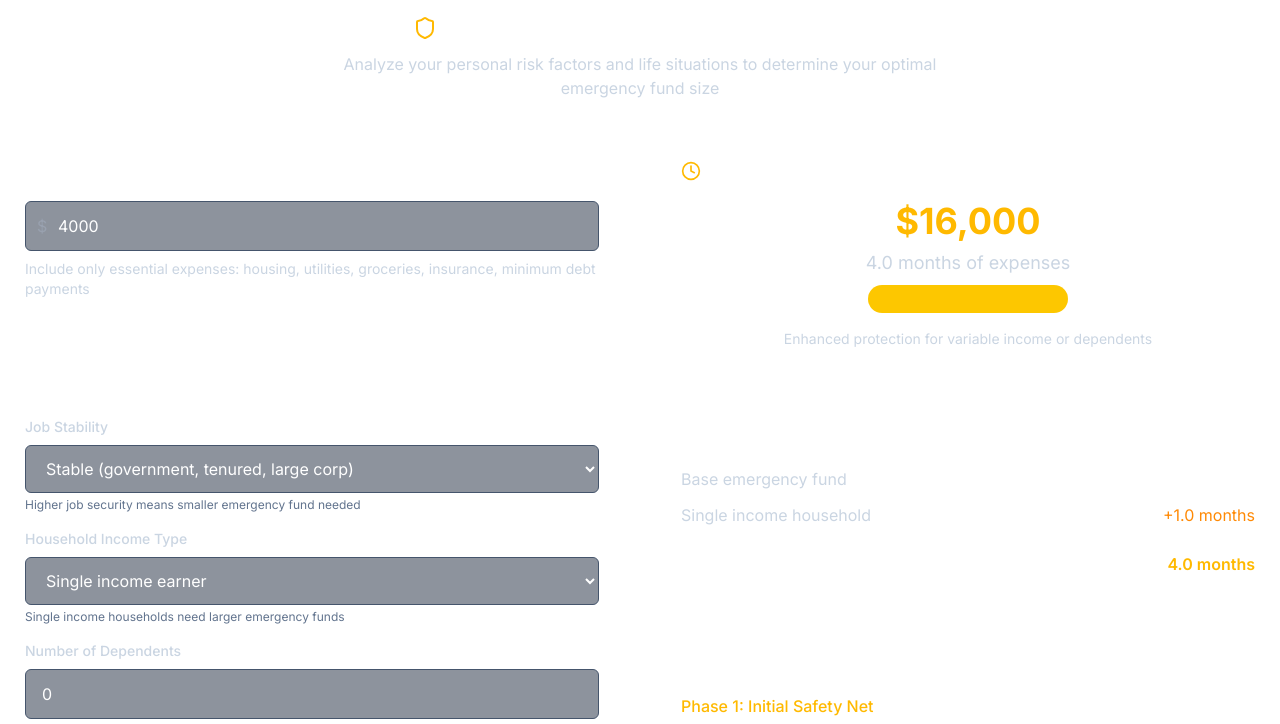
EmergencyFundScenarioAnalyzer › updates protection level based on risk score
# Add multiple risk factors
Select "Unstable (startup, commission only)" in the dropdown showing "Stable" at x=312, y=469, box [25,445,599,493]
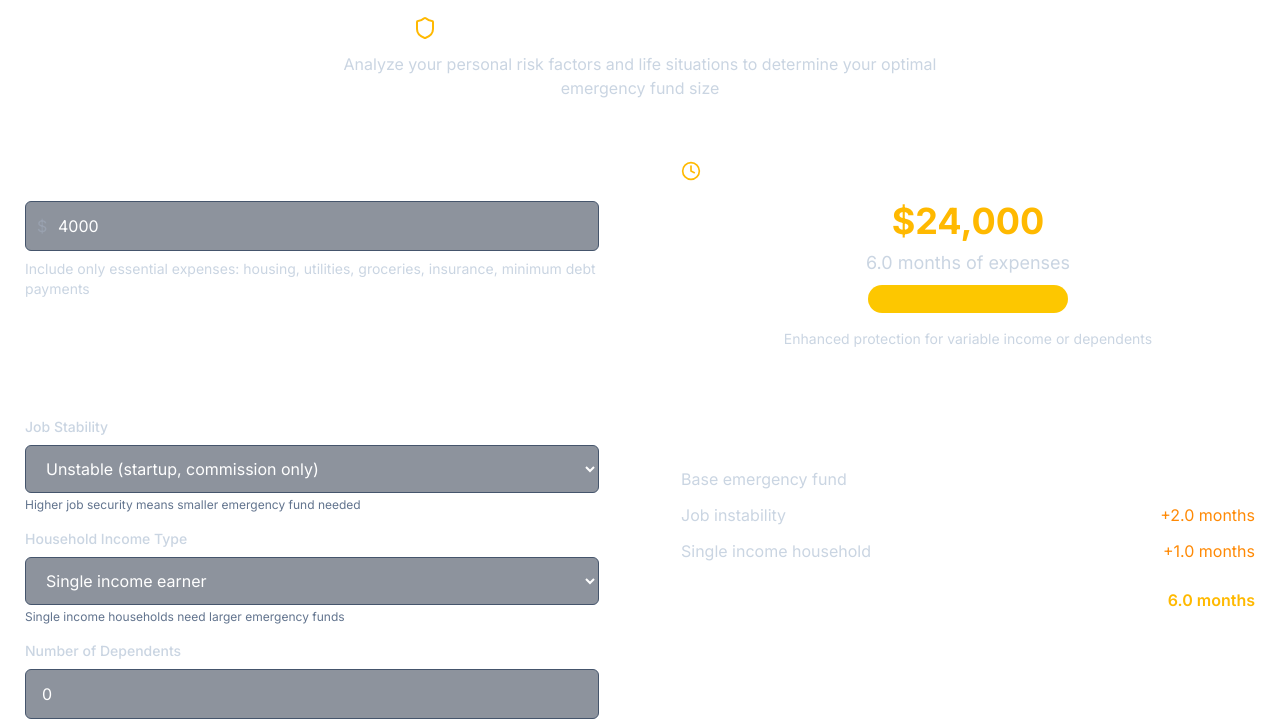
Select "Single income earner" in the dropdown showing "Single income earner" at x=312, y=581, box [25,557,599,605]
Replace the text in the number field showing "0" with "2" at x=312, y=694, box [25,669,599,719]
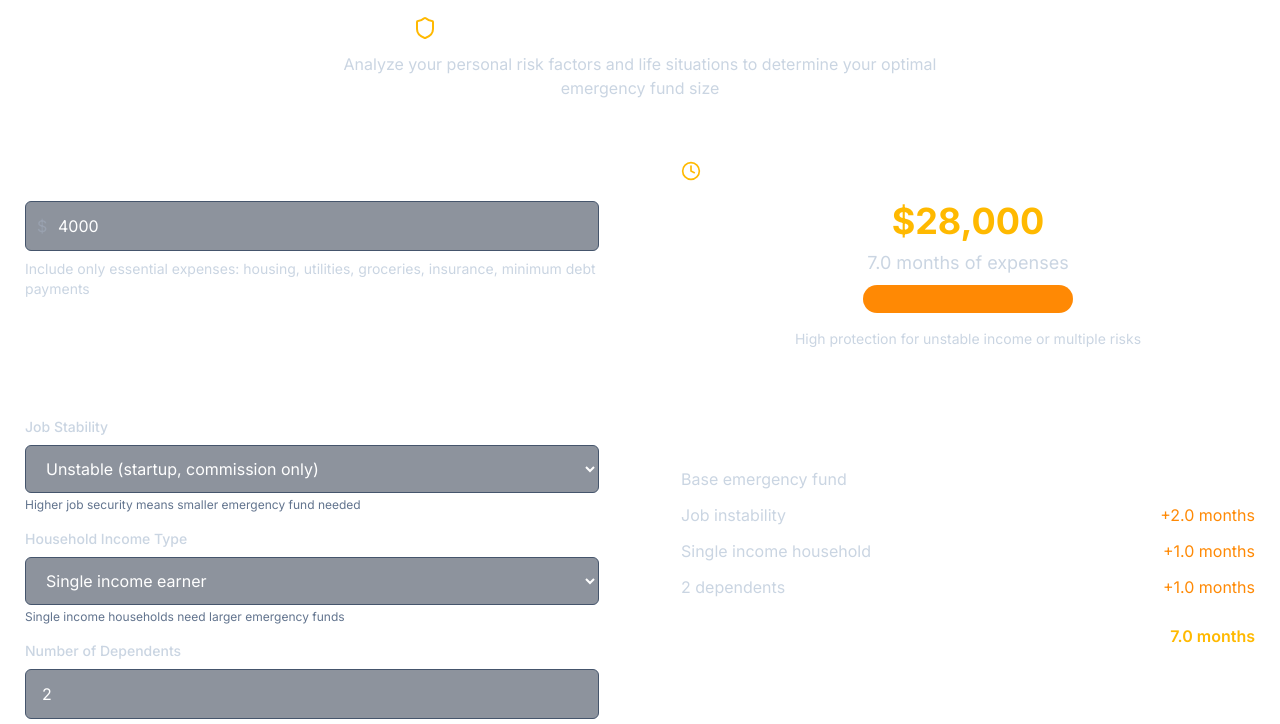
Now the text "Aggressive Protection Level" is shown, box [863,285,1073,313]
